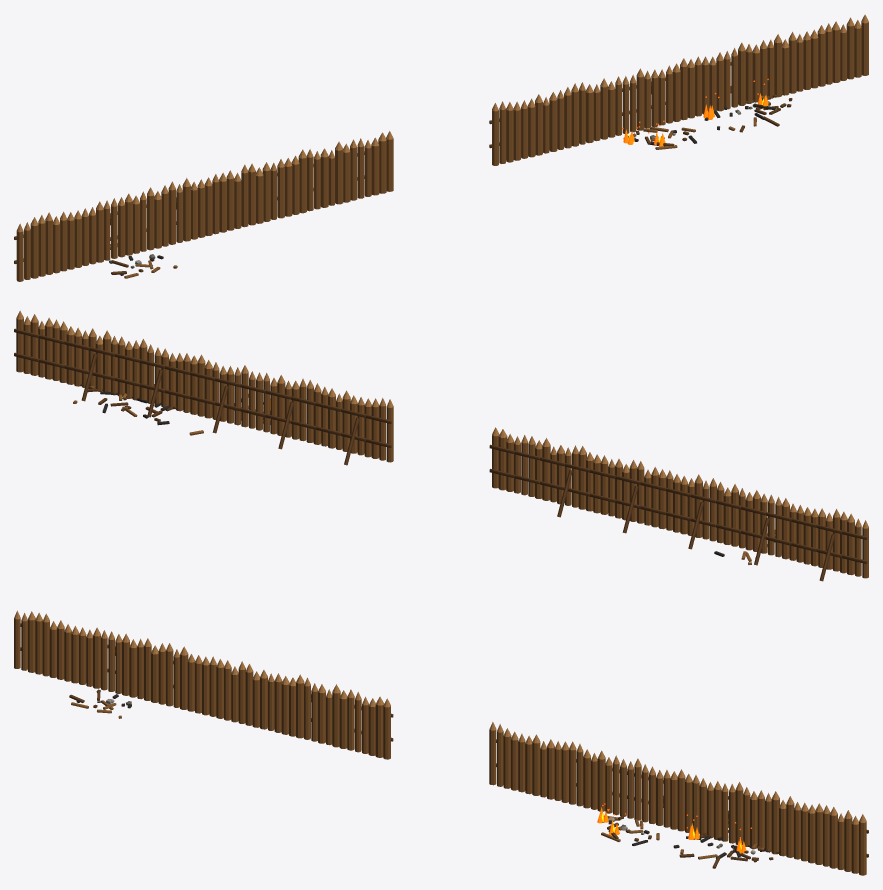
Rendered from mur_front_etap1.glb.
3 views of the same model, one above another, from view 1: azimuth 30°, elevation 25°; view 2: azimuth 150°, elevation 25°; view 3: azimuth 330°, elevation 25° (orthographic).
Visible parts, largest first — view 1: mur_front_etap1; view 2: mur_front_etap1; view 3: mur_front_etap1.
Boxes of the visible parts, x1,y1,x2,y2 form: mur_front_etap1: (14,14,868,281); mur_front_etap1: (14,310,868,581); mur_front_etap1: (14,610,868,875).
Bounding box in the file's own units: 51.99 × 3.7 × 5.82.
